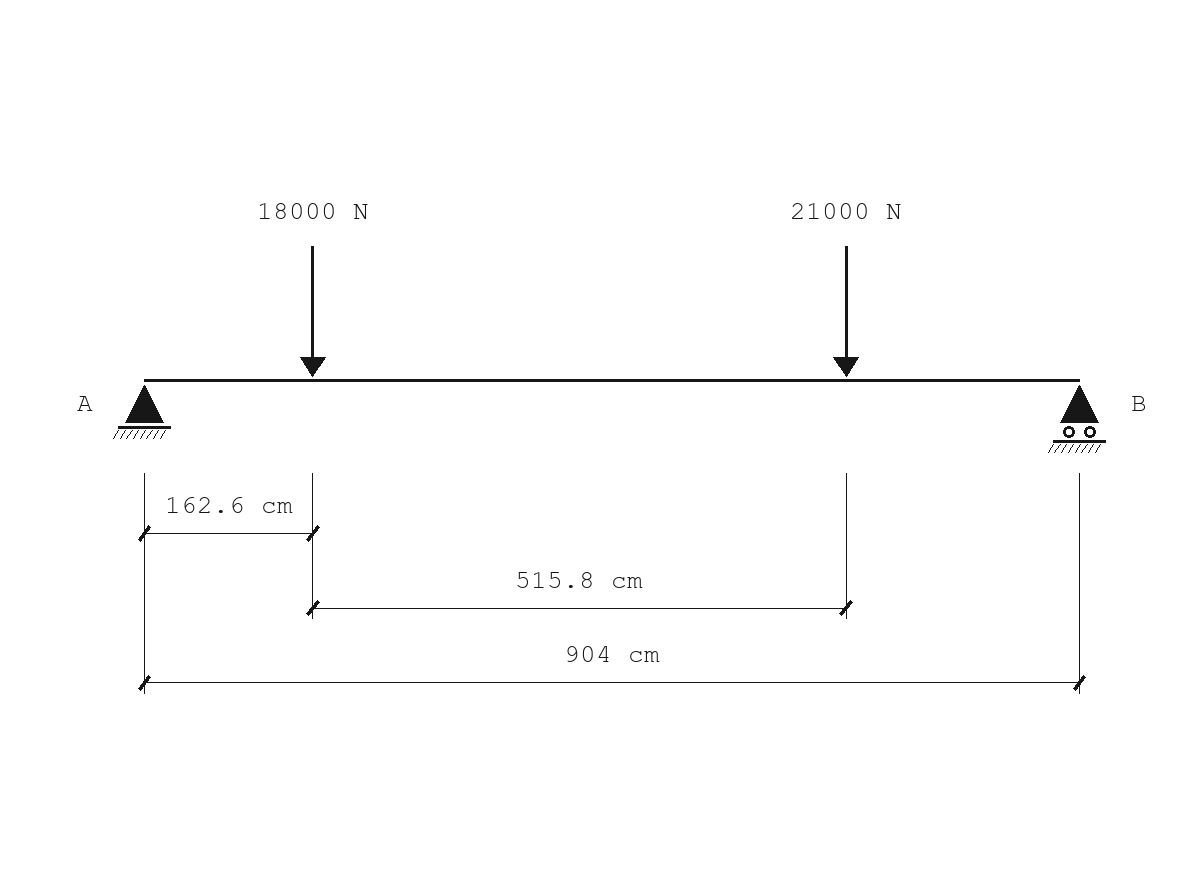pin_support: (113, 385, 171, 439)
point_load: (300, 246, 326, 377), (833, 246, 859, 377)
roller_support: (1048, 385, 1106, 453)
